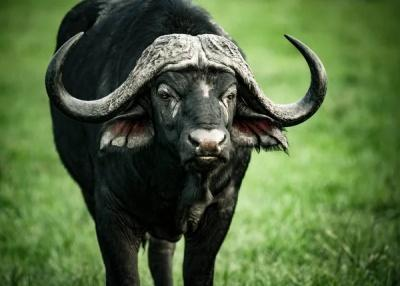buffalo: (46, 0, 326, 285)
